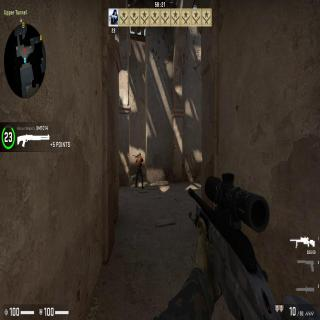T-Body: (134, 151, 145, 189)
T-Head: (138, 152, 141, 158)
